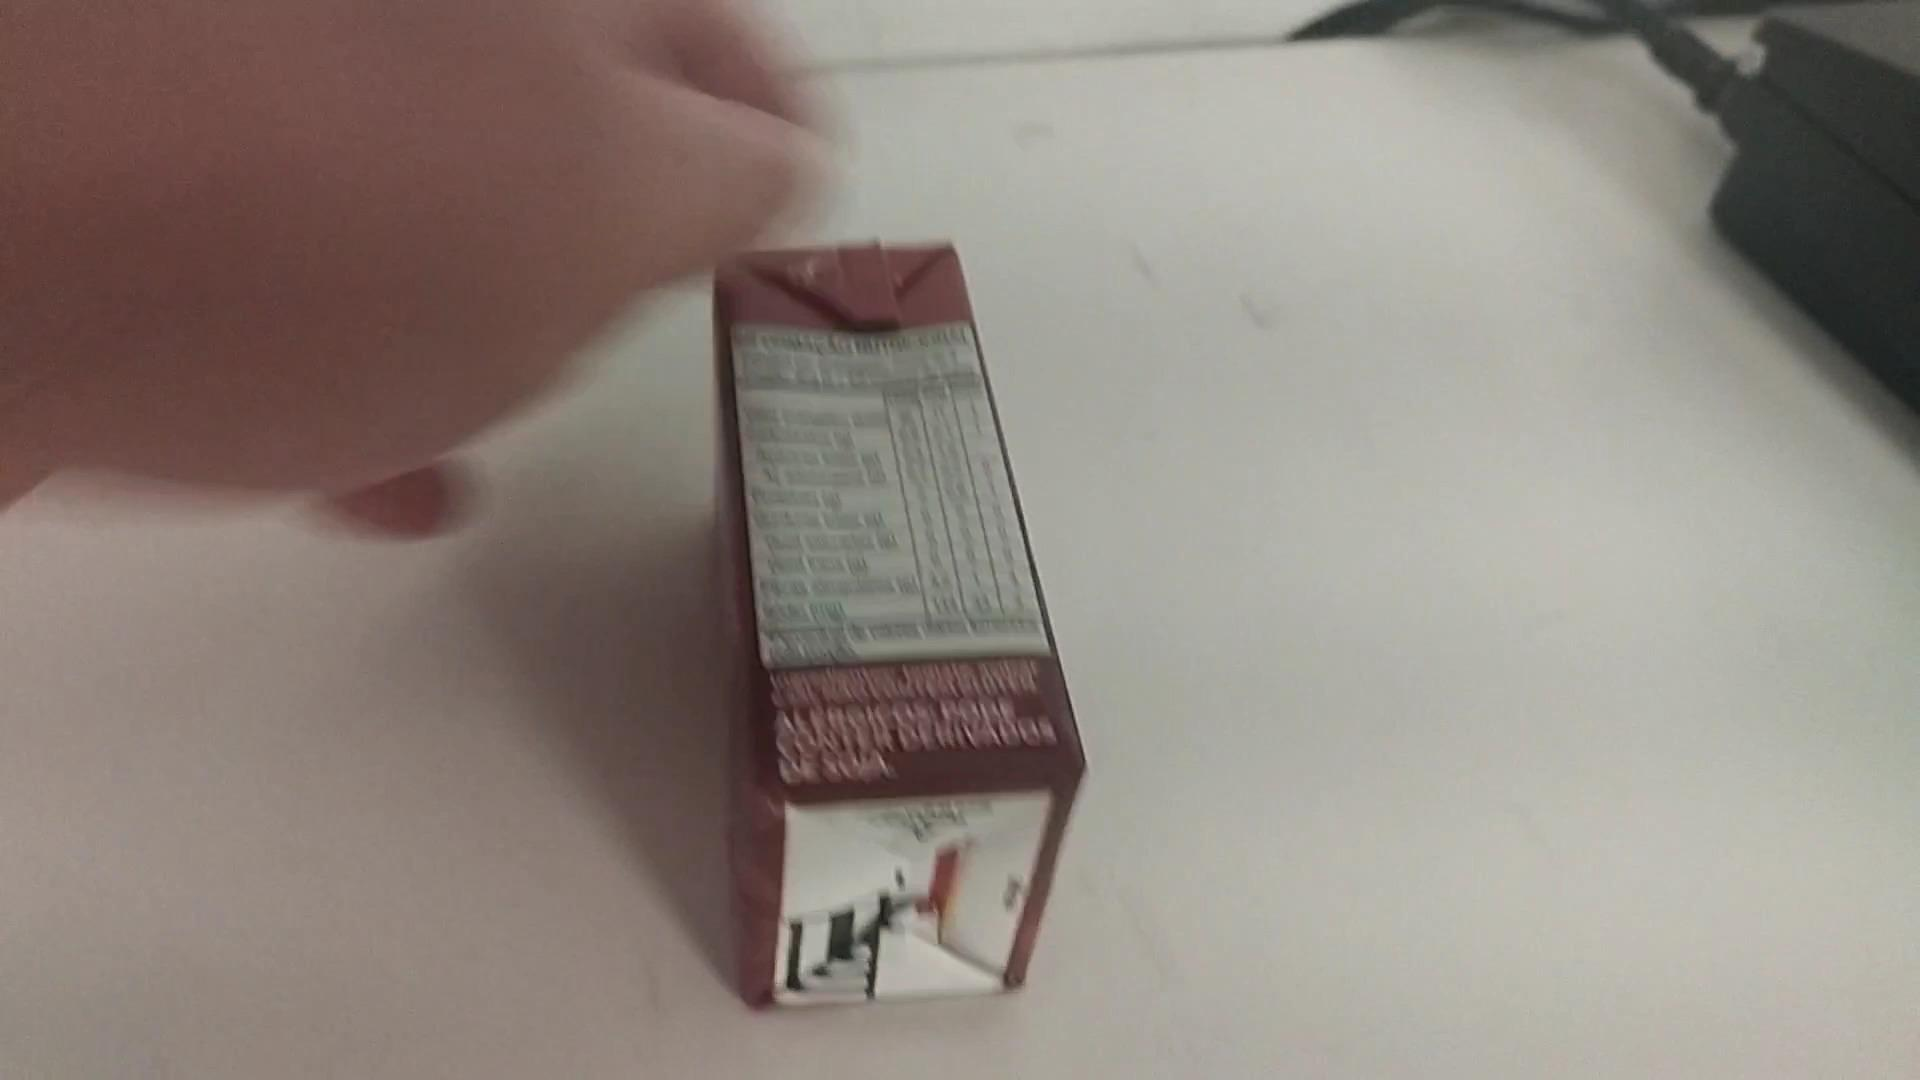tomate: (678, 170, 1104, 1001)
